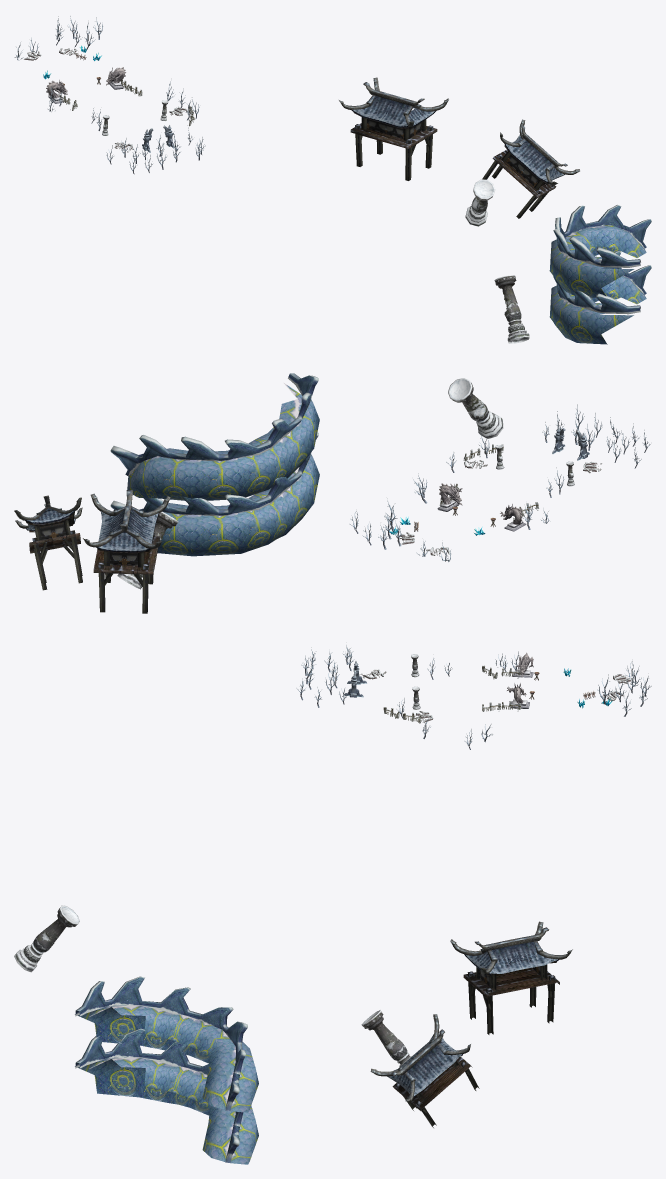
The model's file is s_battle_06_wood.FBX.
3 renders of one model, top to bottom at view 1: azimuth 30°, elevation 25°; view 2: azimuth 150°, elevation 25°; view 3: azimuth 270°, elevation 25°, orthographic. The views are drawn at different scales.
Parts seen in each view (by area): view 1: wood; view 2: wood; view 3: wood.
Part boxes in pixels (x1,y1,x2,y2): wood: (14, 16, 651, 344); wood: (14, 373, 650, 613); wood: (14, 645, 651, 1164).
Size of the model in its own units: 236 by 114 by 231.
